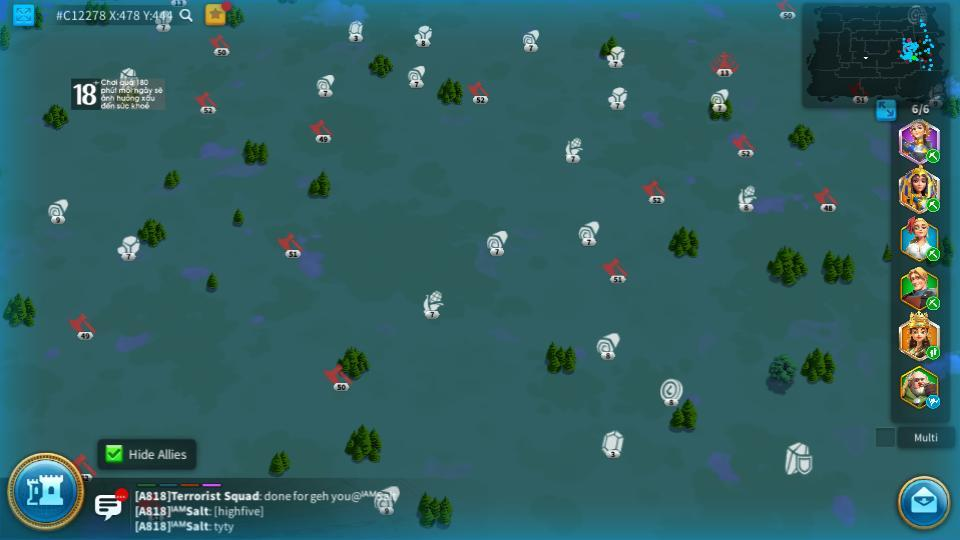gem-z-out: (601, 430, 623, 456)
march_farming: (925, 197, 941, 212), (925, 297, 942, 310), (925, 248, 941, 260)
march_idle: (925, 396, 942, 408)
march_marching: (925, 150, 942, 162), (925, 347, 941, 359)
